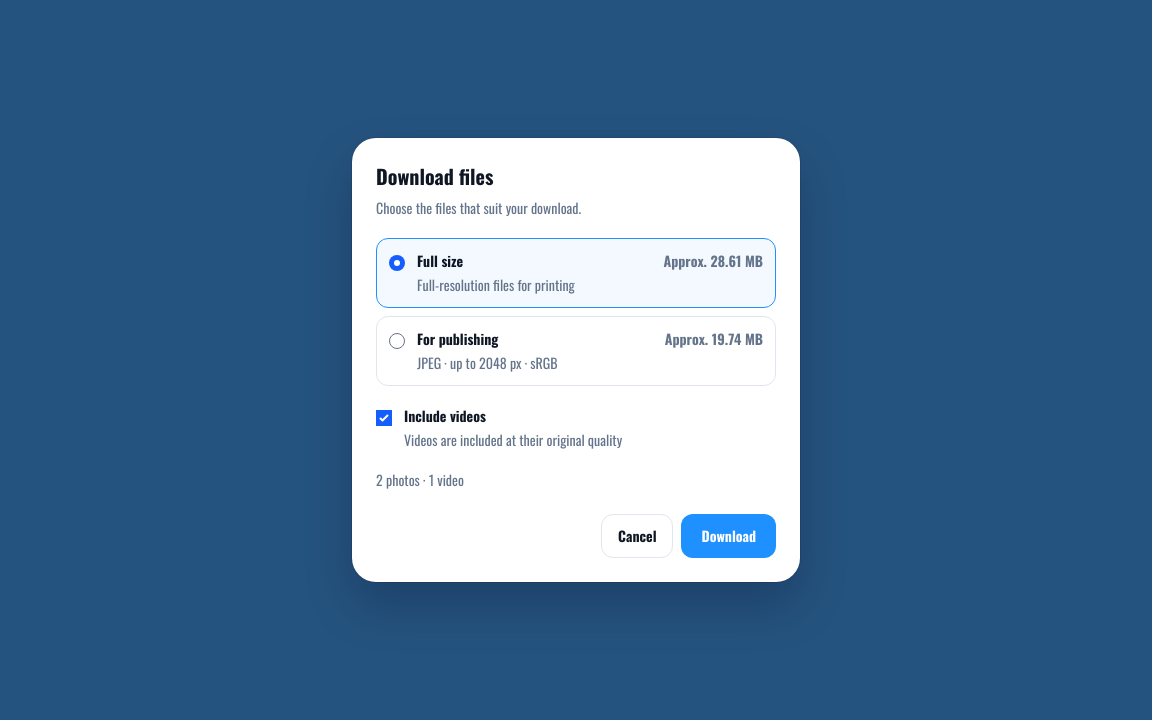
Scenario: DownloadOptionsDialog › blocks confirmation while checkbox estimates load and ignores an older response
Check: the message "Loading download estimate" is not shown
Click the checkbox labelled "Include videos Videos are included at their original quality". click: click(384, 418)
box: [376,410,392,426]
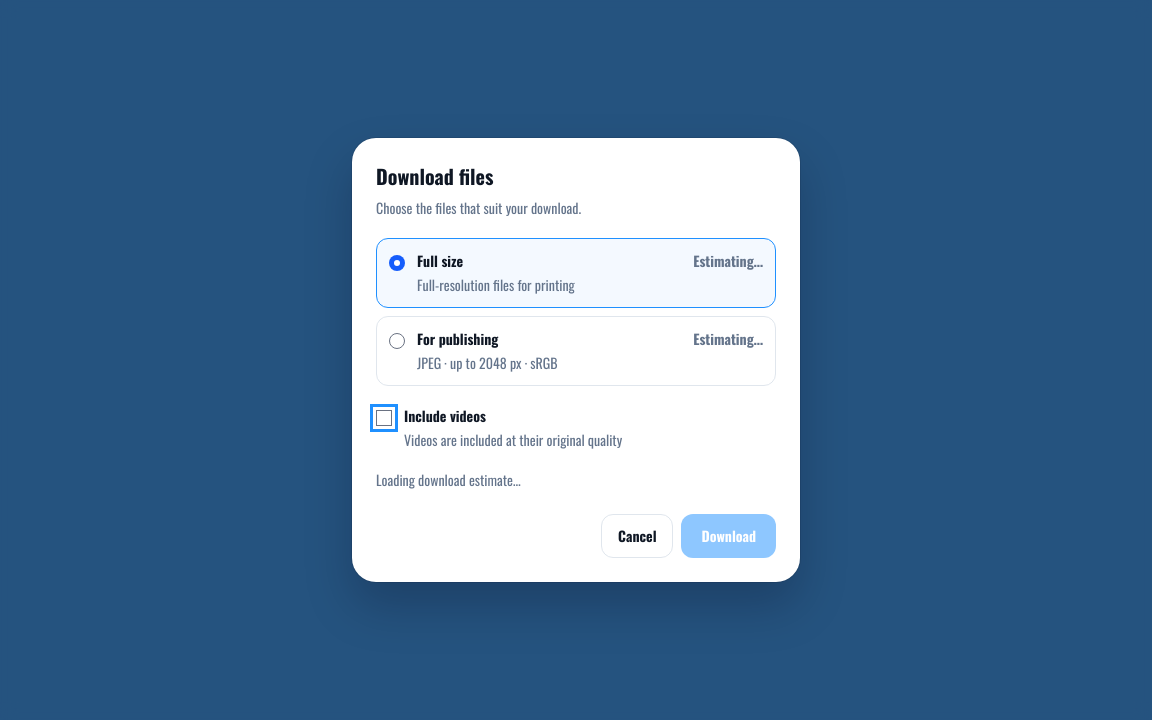
Check: the button "Download" is disabled, box [682,514,776,558]
Click the checkbox labelled "Include videos Videos are included at their original quality". click: click(384, 418)
box: [376,410,392,426]
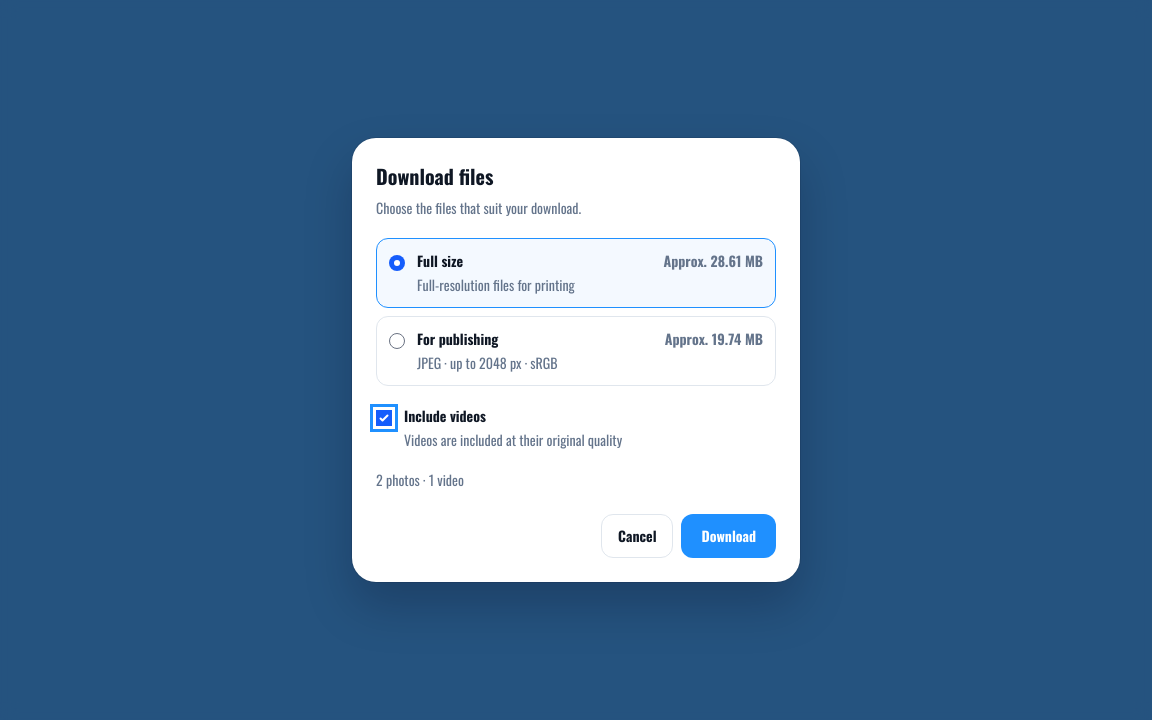
Check: the checkbox is checked, box [376,410,392,426]
Check: the message "Loading download estimate" is gone
Check: the text "2 photos · 1 video" is shown, box [376,469,464,490]
